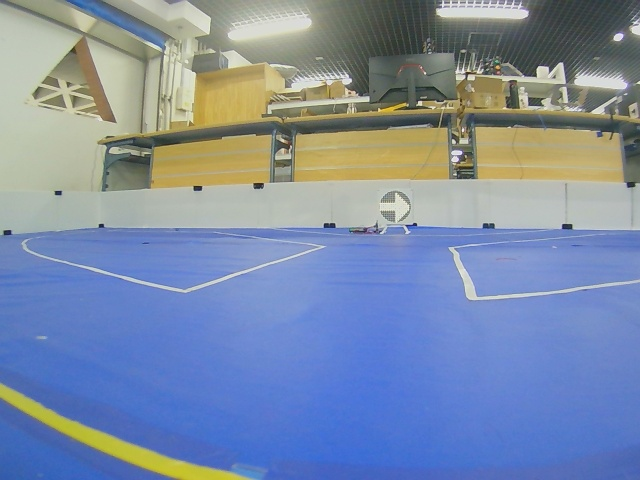right_yellow: (379, 191, 411, 223)
